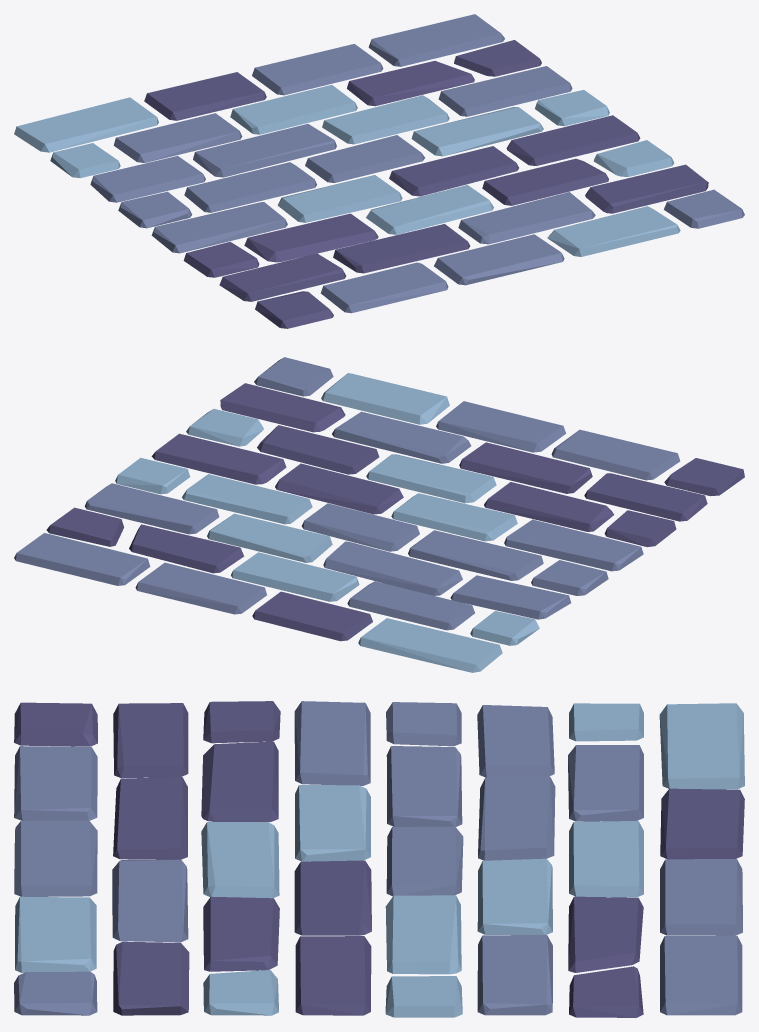
File: Floor_Stones_Regular_03.fbx
3 renders of one model, top to bottom at view 1: azimuth 30°, elevation 25°; view 2: azimuth 150°, elevation 25°; view 3: azimuth 270°, elevation 25°, orthographic. The views are drawn at different scales.
Visible parts, largest first — view 1: Floor Stone 08; view 2: Floor Stone 08; view 3: Floor Stone 08.
Part boxes in pixels (left/top/right/bottom): Floor Stone 08: left=14, top=14, right=744, bottom=328; Floor Stone 08: left=14, top=357, right=744, bottom=672; Floor Stone 08: left=14, top=701, right=744, bottom=1017.
Size of the model in its own units: 402 by 7.81 by 401.
